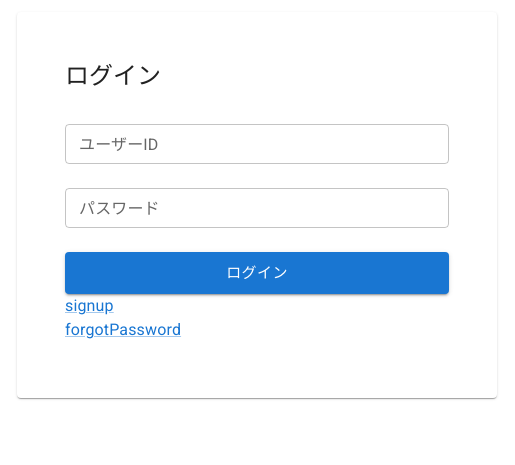
Test: SignIn › ユーザーIDが未入力の場合、エラーメッセージが表示される
Click the button "ログイン" at x=257, y=273, box [65, 252, 449, 294]
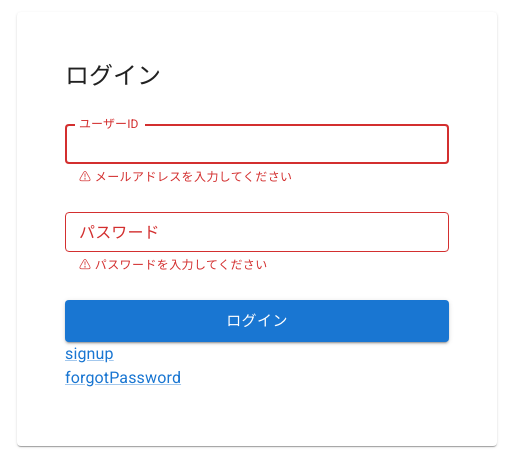
Expected: the text "⚠ メールアドレスを入力してください" is shown, [79, 170, 292, 184]
